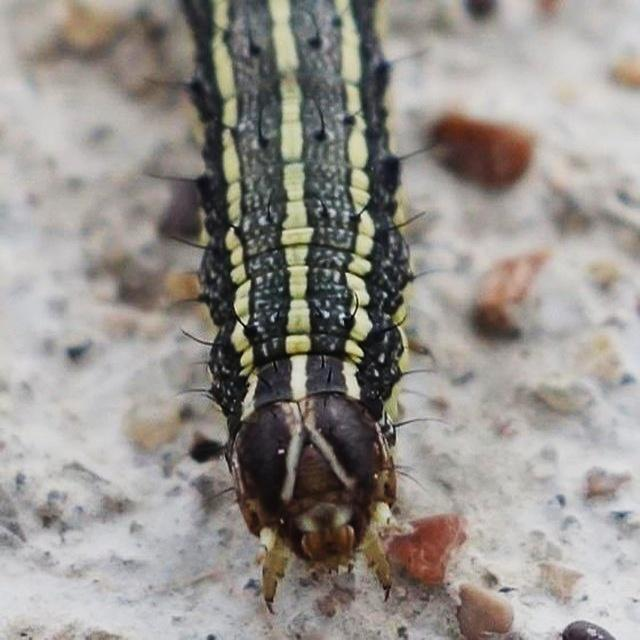gusano_cogollero: (178, 7, 436, 565)
